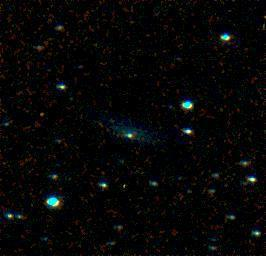star: (24, 99, 54, 129)
